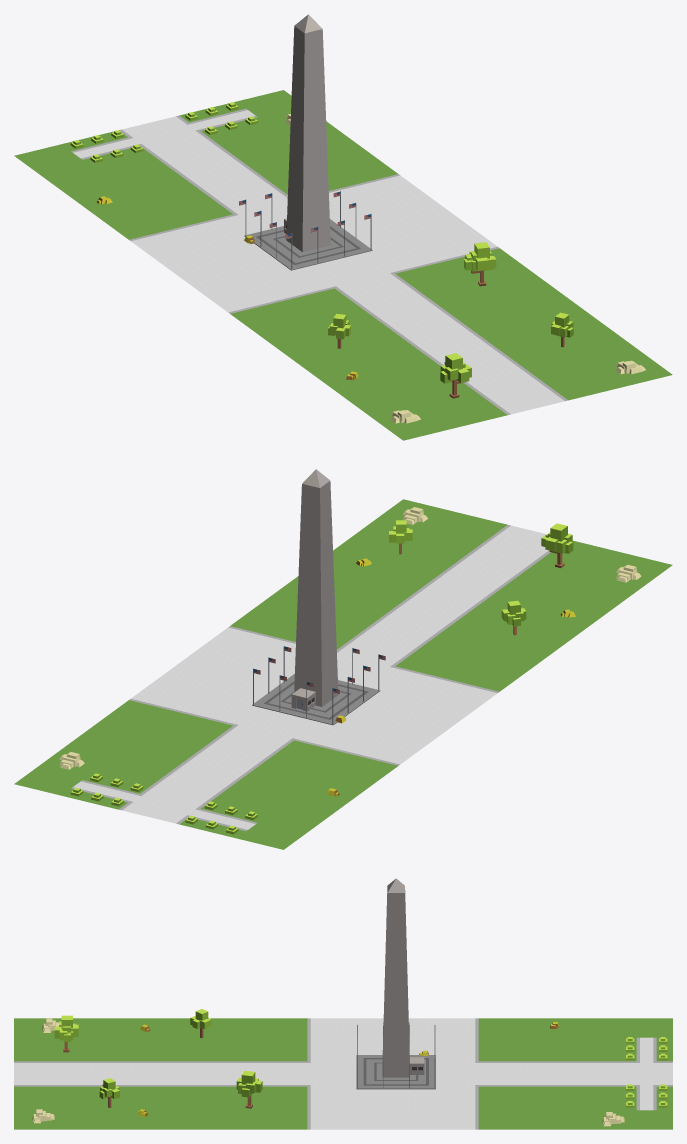
Rendered from Monument Park_hub.FBX.
The picture shows the model from 3 angles, top to bottom: view 1: azimuth 30°, elevation 25°; view 2: azimuth 150°, elevation 25°; view 3: azimuth 270°, elevation 25°; orthographic projection. The views are drawn at different scales.
Parts seen in each view (by area): view 1: Ground, SC_Bld_WashingtonMonument, SC_Bld_WashingtonMonument4, SC_Bld_WashingtonMonument1, tree_large_mesh, tree_large_mesh (1); view 2: Ground, @Fractured Object (single mesh), SC_Bld_WashingtonMonument, SC_Bld_WashingtonMonument3, SC_Bld_WashingtonMonument4, tree_large_mesh, SC_Bld_WashingtonMonument2; view 3: Ground, @Fractured Object (single mesh), SC_Bld_WashingtonMonument, tree_large_mesh (1), tree_large_mesh, SC_Bld_WashingtonMonument4, tree_medium_mesh (10).
Boxes of the visible parts, x1,y1,x2,y2 form: Ground: (14, 90, 672, 440); SC_Bld_WashingtonMonument: (239, 14, 372, 266); SC_Bld_WashingtonMonument4: (244, 194, 371, 265); SC_Bld_WashingtonMonument1: (289, 128, 327, 165); tree_large_mesh: (440, 353, 471, 398); tree_large_mesh (1): (464, 242, 496, 286); Ground: (14, 499, 672, 849); @Fractured Object (single mesh): (252, 485, 381, 725); SC_Bld_WashingtonMonument: (256, 493, 383, 724); SC_Bld_WashingtonMonument3: (268, 639, 385, 693); SC_Bld_WashingtonMonument4: (253, 652, 379, 724); tree_large_mesh: (541, 523, 573, 567); SC_Bld_WashingtonMonument2: (296, 613, 321, 648); Ground: (14, 1018, 672, 1129); @Fractured Object (single mesh): (356, 878, 435, 1089); SC_Bld_WashingtonMonument: (356, 879, 435, 1088); tree_large_mesh (1): (236, 1070, 262, 1108); tree_large_mesh: (54, 1015, 78, 1052); SC_Bld_WashingtonMonument4: (359, 1050, 424, 1087); tree_medium_mesh (10): (99, 1078, 119, 1107).
Size of the model in its own units: 40000 by 32509 by 100000.
Materials: 6 (4 with a texture image).
